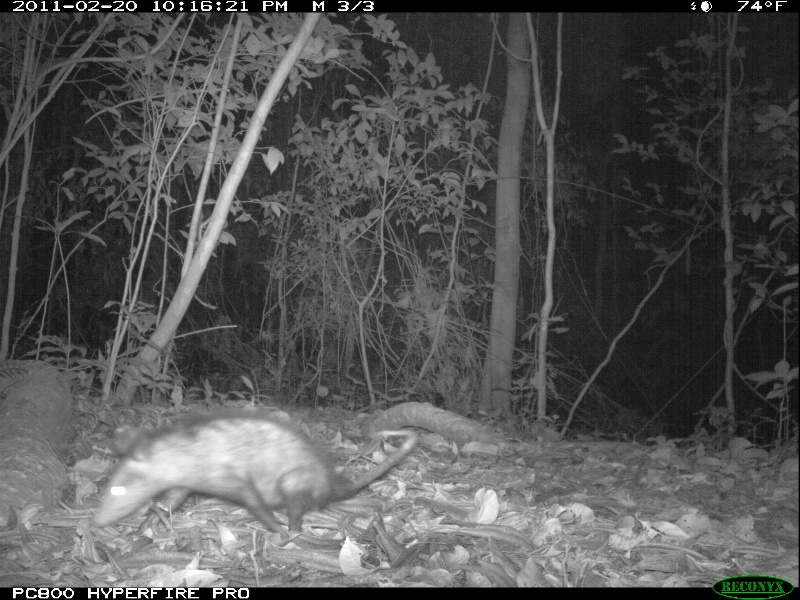opossum: (86, 411, 423, 535)
